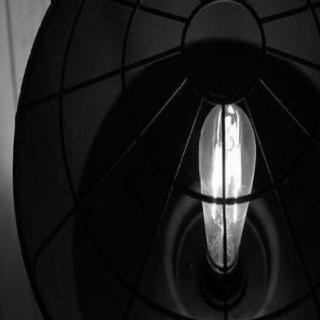other: (200, 111, 256, 261)
